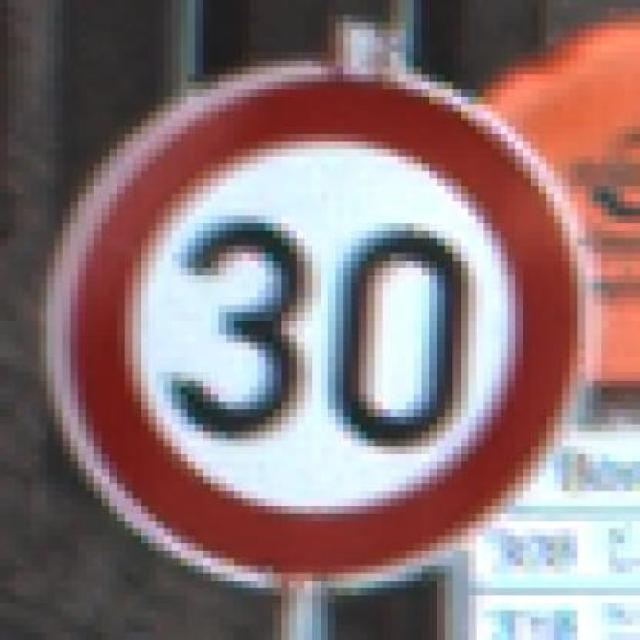Speed Limit 30 KMPh: (46, 37, 625, 611)
